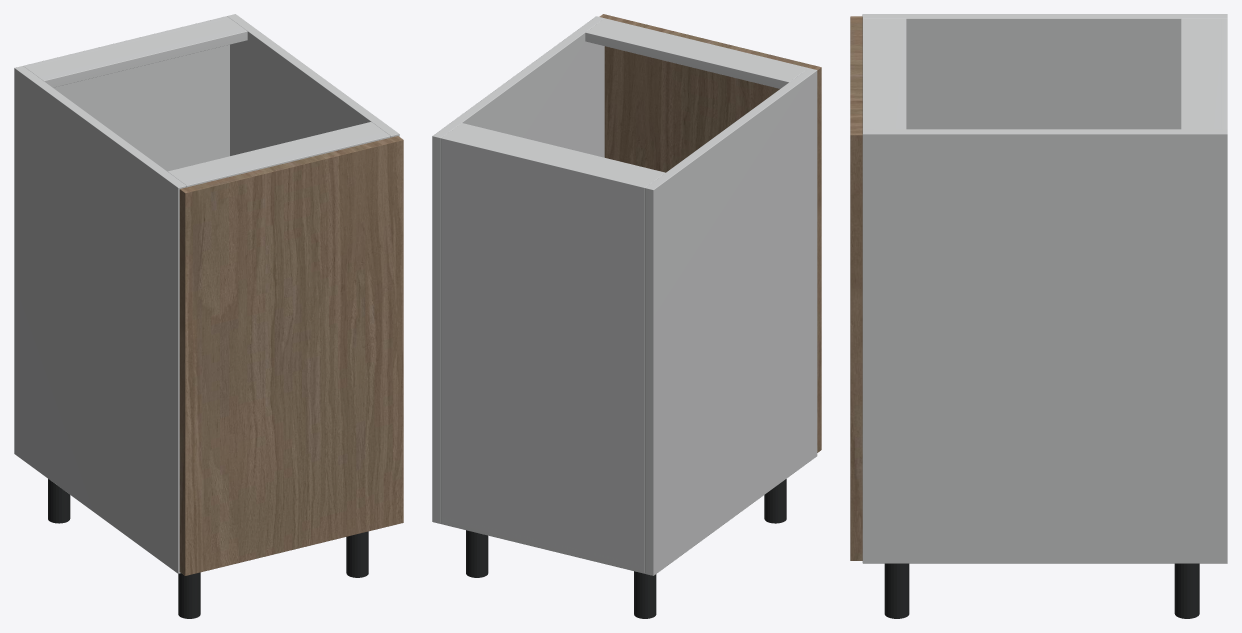
The model's file is oppein-pb-mnw-b18fh.glb.
3 renders of one model, left to right at view 1: azimuth 30°, elevation 25°; view 2: azimuth 150°, elevation 25°; view 3: azimuth 270°, elevation 25°, orthographic. The views are drawn at different scales.
Visible parts, largest first — view 1: Door, Cabinet side, Cabinet back, Cabinet side.001, Top support rail, Top support rail.001, Adjustable foot.001, Adjustable foot.003, Adjustable foot; view 2: Cabinet back, Cabinet side, Door, Cabinet side.001, Top support rail.001, Top support rail, Cabinet bottom, Adjustable foot, Adjustable foot.002, Adjustable foot.001; view 3: Cabinet side.001, Cabinet side, Door, Top support rail.001, Top support rail, Adjustable foot.002, Adjustable foot.003, Cabinet back.
Part boxes in pixels (bbox=[...]): Door: bbox=[179, 136, 403, 575]; Cabinet side: bbox=[14, 66, 186, 573]; Cabinet back: bbox=[23, 16, 229, 171]; Cabinet side.001: bbox=[227, 14, 399, 155]; Top support rail: bbox=[25, 18, 247, 87]; Top support rail.001: bbox=[167, 122, 390, 187]; Adjustable foot.001: bbox=[178, 572, 200, 618]; Adjustable foot.003: bbox=[346, 531, 368, 577]; Adjustable foot: bbox=[48, 479, 70, 523]; Cabinet back: bbox=[441, 136, 647, 573]; Cabinet side: bbox=[645, 68, 817, 575]; Door: bbox=[599, 14, 821, 452]; Cabinet side.001: bbox=[432, 16, 604, 523]; Top support rail.001: bbox=[585, 18, 808, 88]; Top support rail: bbox=[444, 123, 665, 185]; Cabinet bottom: bbox=[441, 515, 644, 572]; Adjustable foot: bbox=[634, 571, 656, 618]; Adjustable foot.002: bbox=[466, 530, 488, 577]; Adjustable foot.001: bbox=[764, 479, 786, 523]; Cabinet side.001: bbox=[862, 129, 1227, 563]; Cabinet side: bbox=[862, 14, 1227, 129]; Door: bbox=[850, 16, 862, 560]; Top support rail.001: bbox=[862, 18, 906, 129]; Top support rail: bbox=[1181, 18, 1220, 129]; Adjustable foot.002: bbox=[1174, 563, 1199, 618]; Adjustable foot.003: bbox=[884, 563, 909, 618]; Cabinet back: bbox=[1220, 18, 1227, 129].
Bounding box in the file's own units: 0.4572 × 0.8763 × 0.6064.
3 materials, 1 textured.
